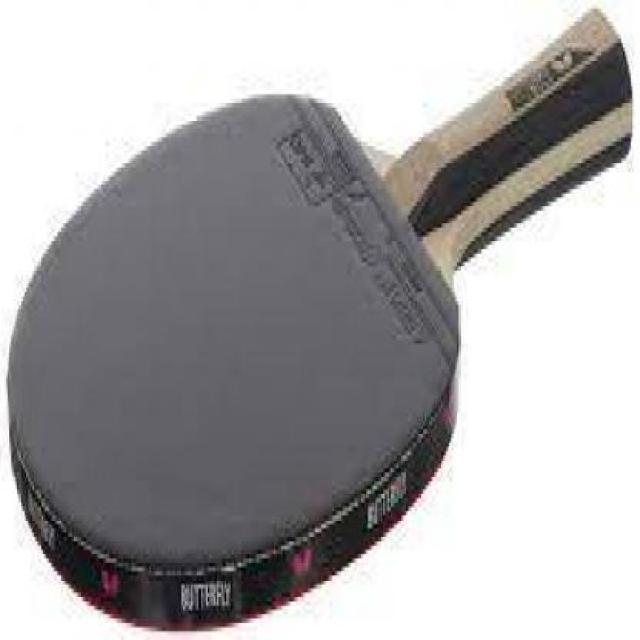table_tennis_racket: (4, 89, 461, 623)
